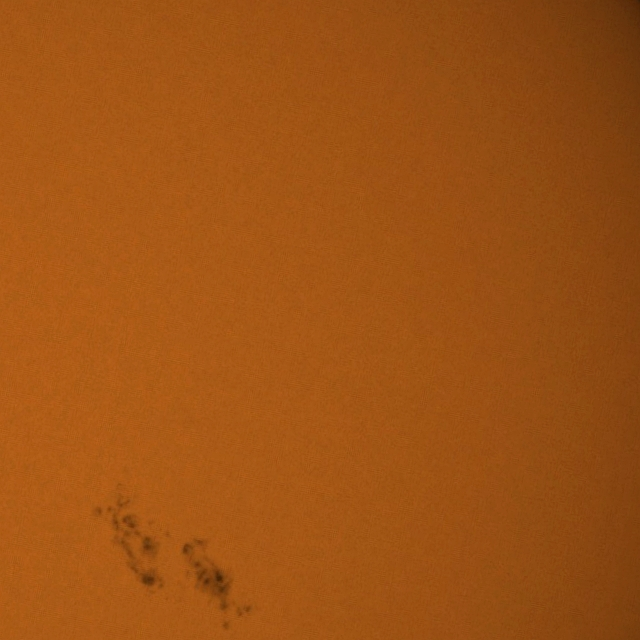sunspot: (78, 482, 175, 596), (170, 524, 265, 635)
